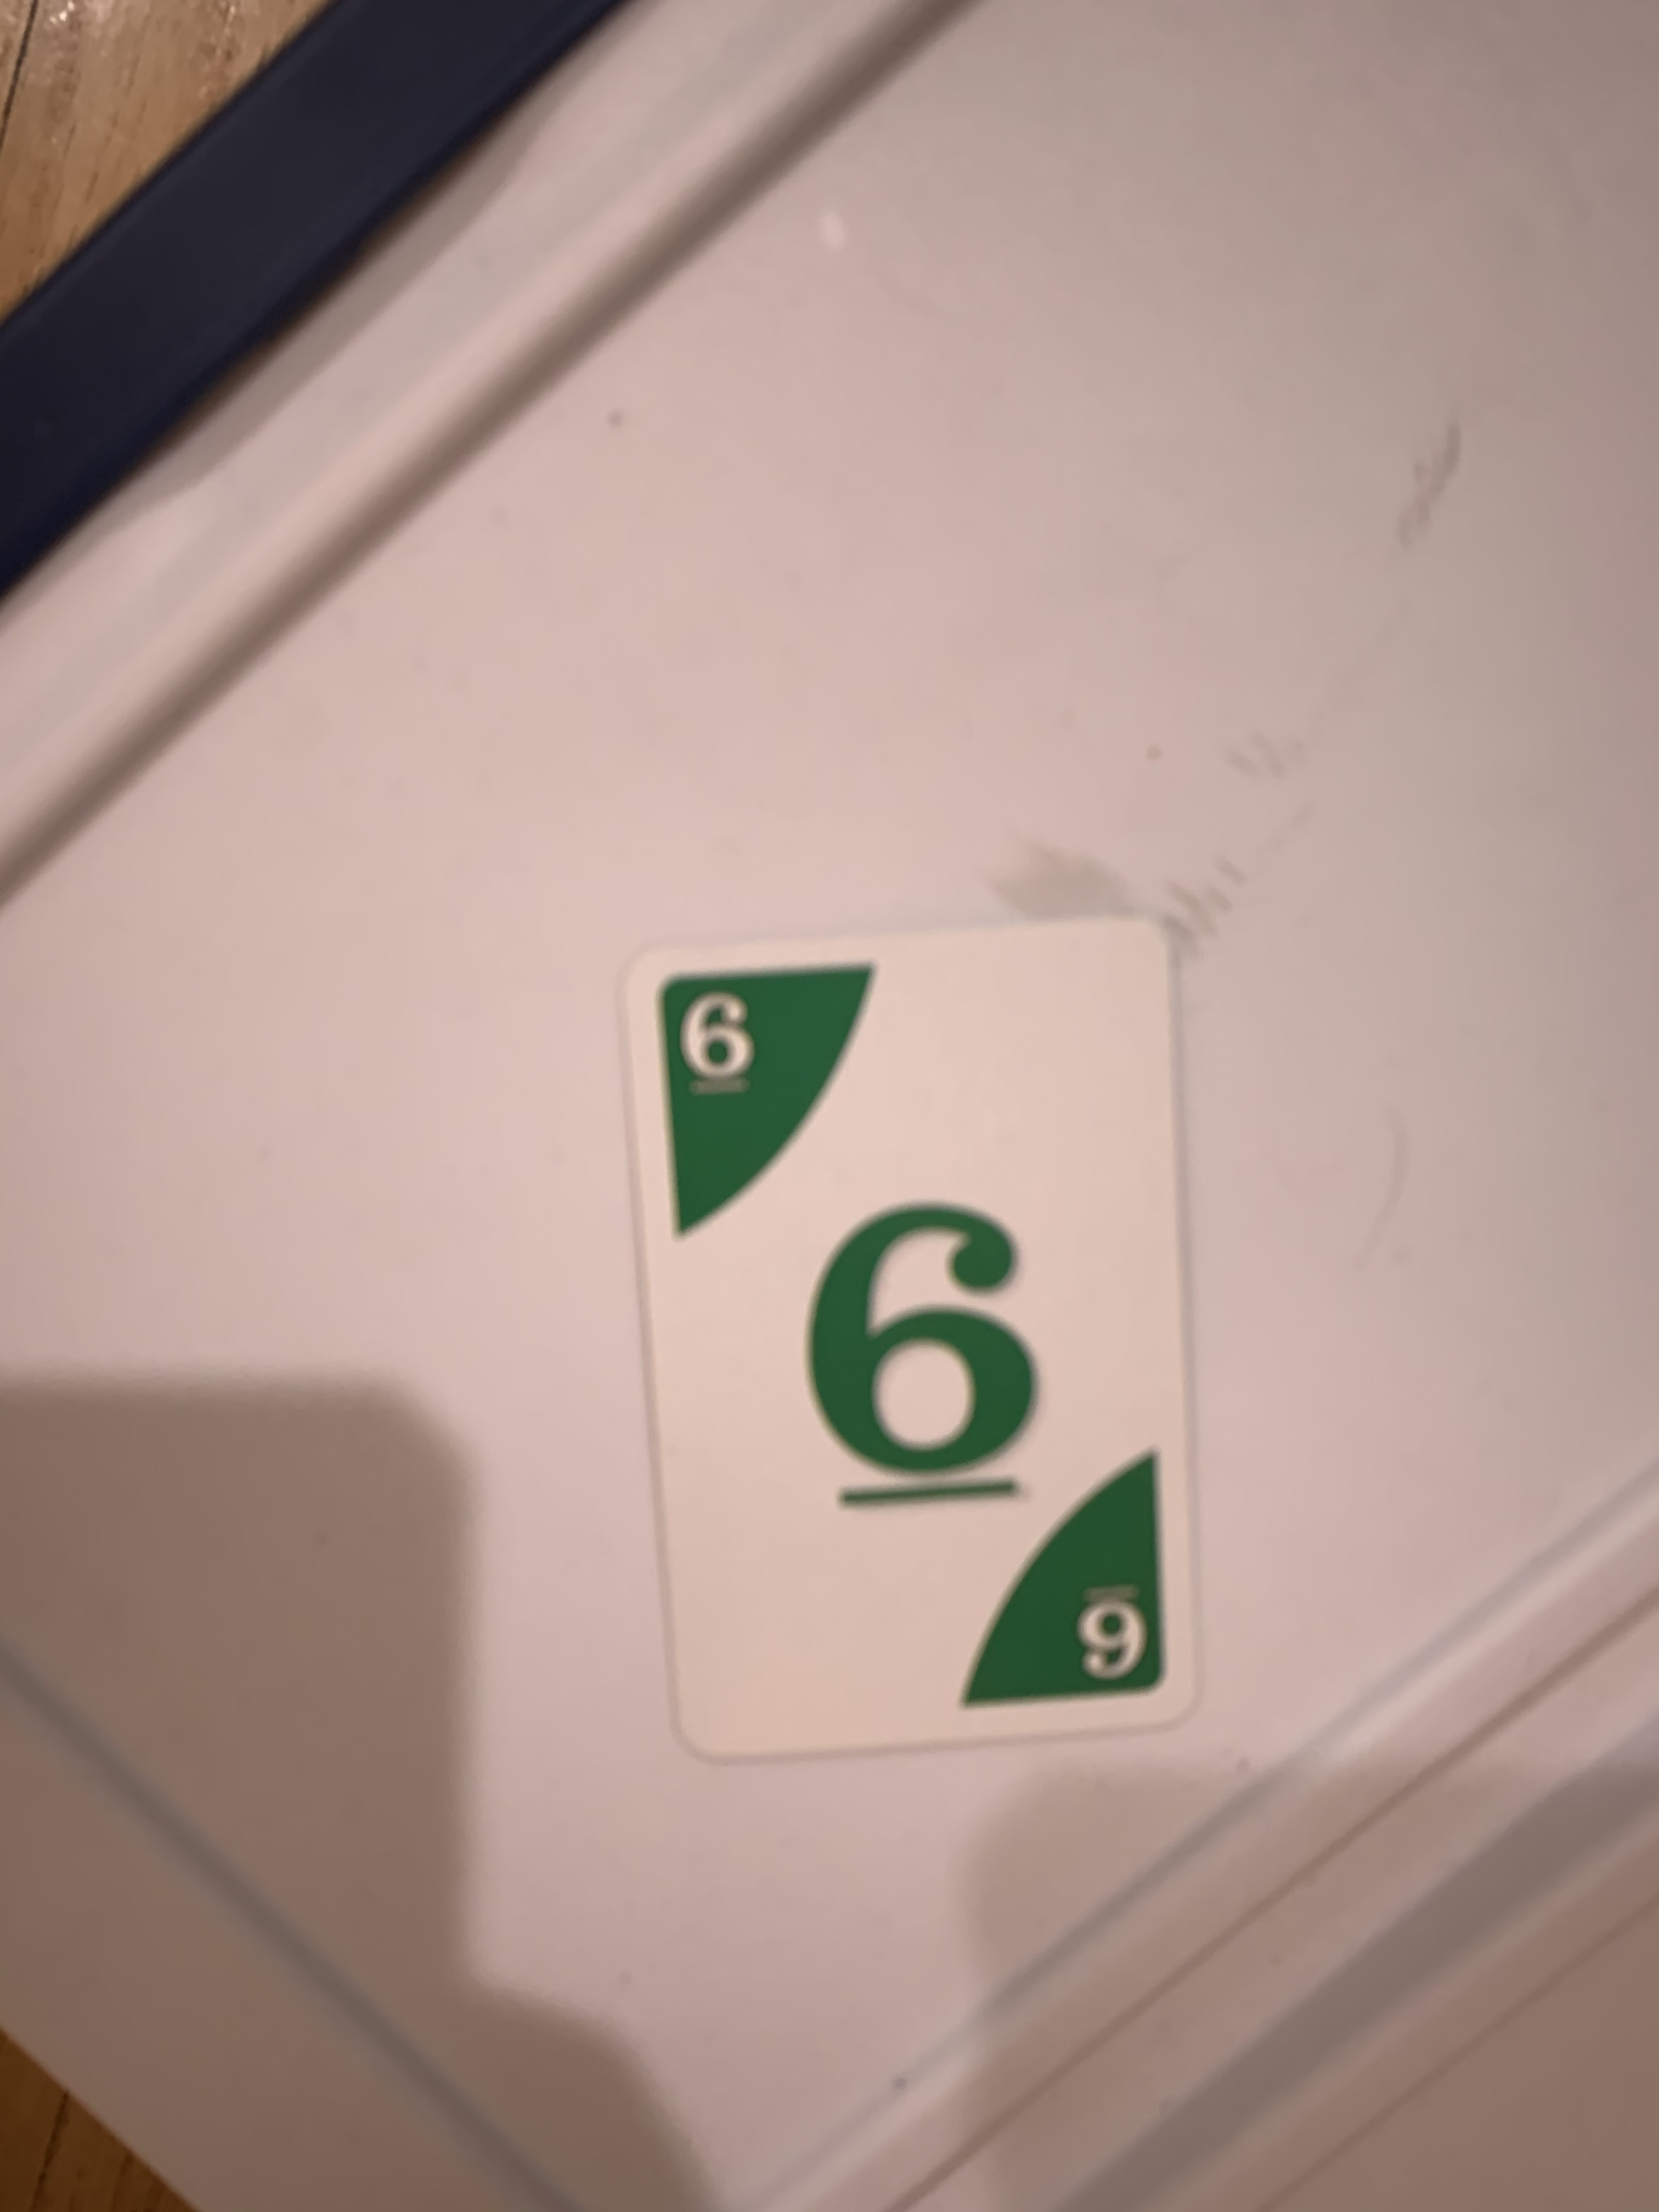six: (608, 897, 1206, 1771)
